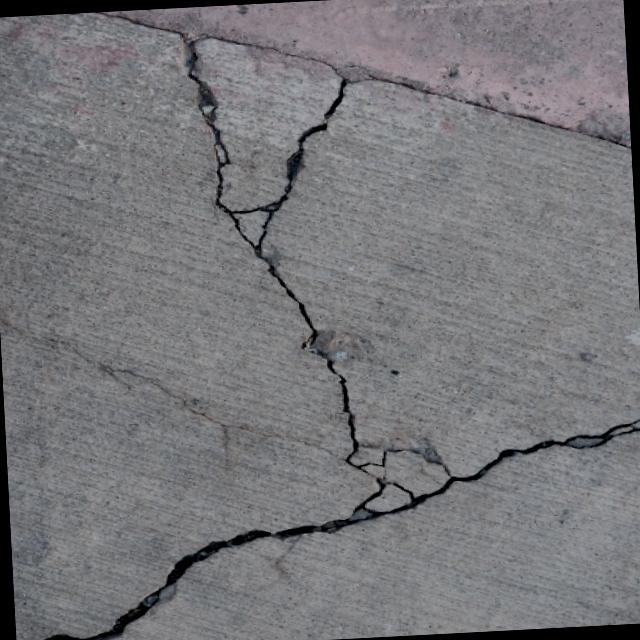crack: (13, 414, 640, 640), (180, 23, 460, 491)
